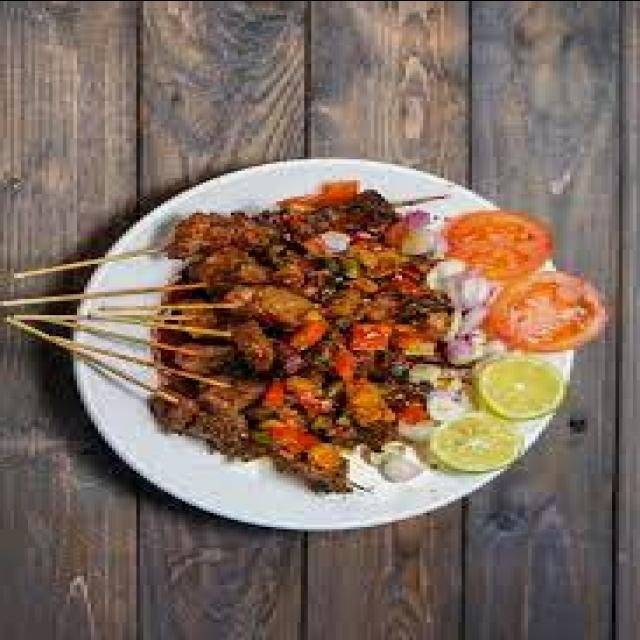sate: (6, 177, 410, 478)
